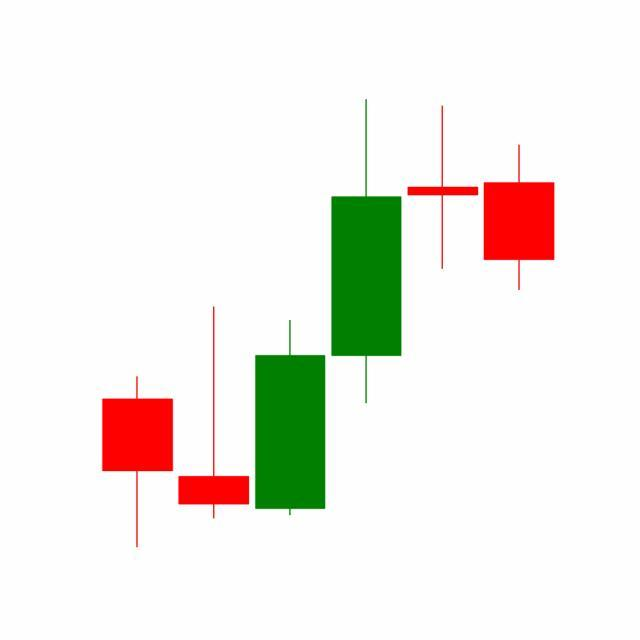Evening Star: (326, 99, 555, 408)
